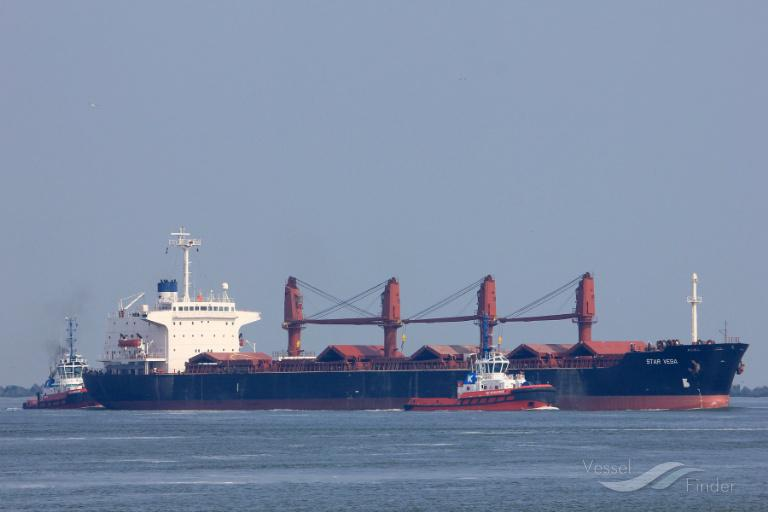OCR: (638, 350, 682, 372)
